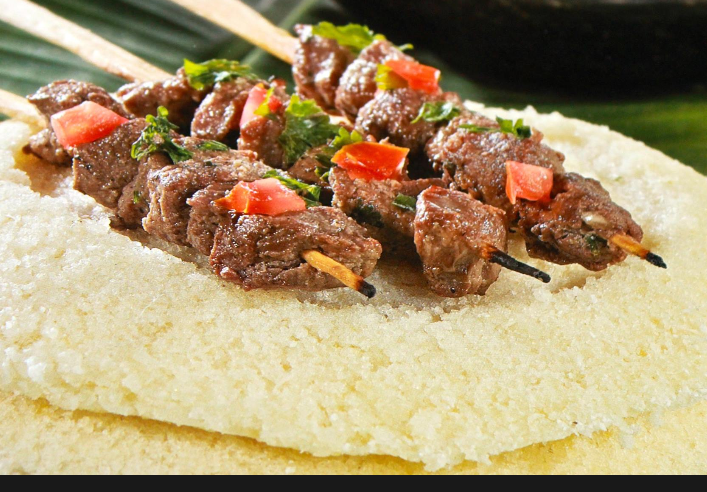attieke: (45, 297, 557, 391)
feuilles vetes: (281, 101, 341, 134)
tomates: (332, 143, 407, 173)
viande de boeuf: (226, 211, 624, 276)
